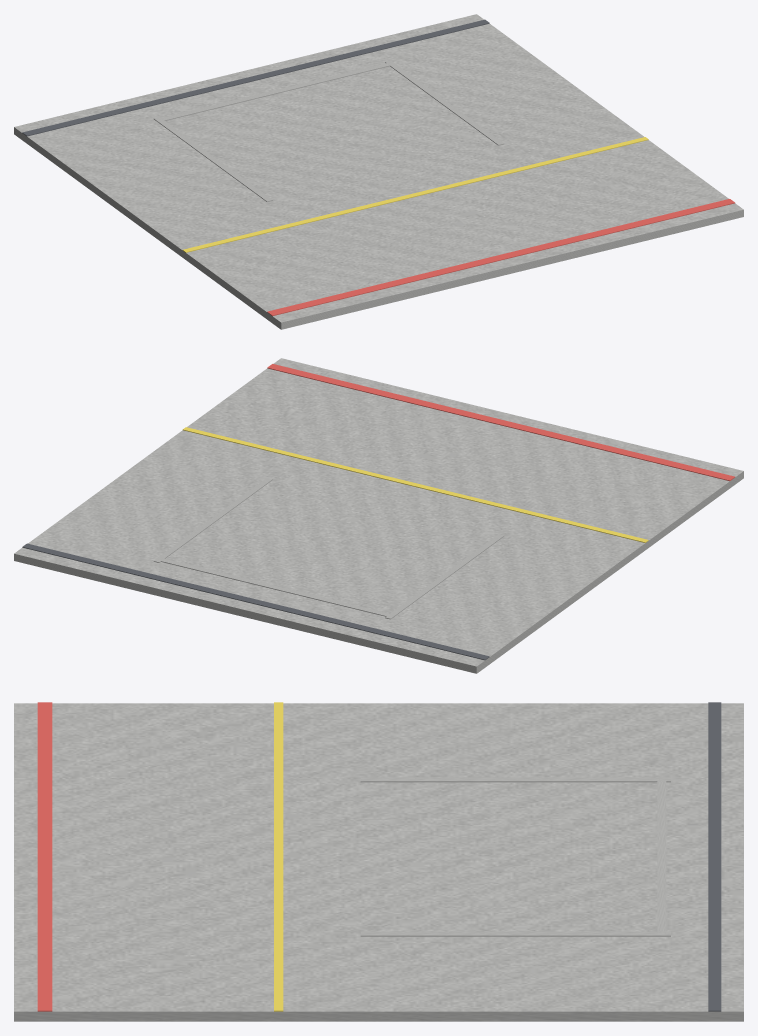
The model's file is go-kart-track-and-pit-lane-pit-lane-tile-66c562ee__34346.glb.
The picture shows the model from 3 angles, top to bottom: view 1: azimuth 30°, elevation 25°; view 2: azimuth 150°, elevation 25°; view 3: azimuth 270°, elevation 25°; orthographic projection. The views are drawn at different scales.
Visible parts, largest first — view 1: pit-lane-tile-concrete, pit-lane-tile-red, pit-lane-tile-charcoal, pit-lane-tile-canary; view 2: pit-lane-tile-concrete, pit-lane-tile-red, pit-lane-tile-charcoal, pit-lane-tile-canary; view 3: pit-lane-tile-concrete, pit-lane-tile-red, pit-lane-tile-charcoal, pit-lane-tile-canary.
Boxes of the visible parts, left/top/right/bottom form: pit-lane-tile-concrete: left=14, top=14, right=743, bottom=329; pit-lane-tile-red: left=267, top=199, right=734, bottom=316; pit-lane-tile-charcoal: left=22, top=19, right=489, bottom=136; pit-lane-tile-canary: left=182, top=137, right=648, bottom=252; pit-lane-tile-concrete: left=14, top=358, right=743, bottom=673; pit-lane-tile-red: left=267, top=364, right=734, bottom=481; pit-lane-tile-charcoal: left=22, top=543, right=489, bottom=660; pit-lane-tile-canary: left=182, top=427, right=648, bottom=542; pit-lane-tile-concrete: left=14, top=703, right=743, bottom=1021; pit-lane-tile-red: left=37, top=702, right=52, bottom=1011; pit-lane-tile-charcoal: left=708, top=702, right=721, bottom=1011; pit-lane-tile-canary: left=274, top=702, right=283, bottom=1011.
Size of the model in its own units: 8 by 0.1318 by 8.
4 materials, 1 textured.
